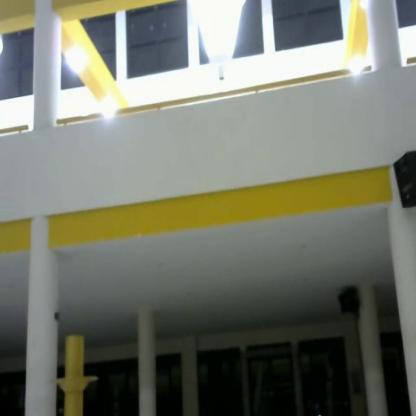pole: (49, 331, 101, 416)
